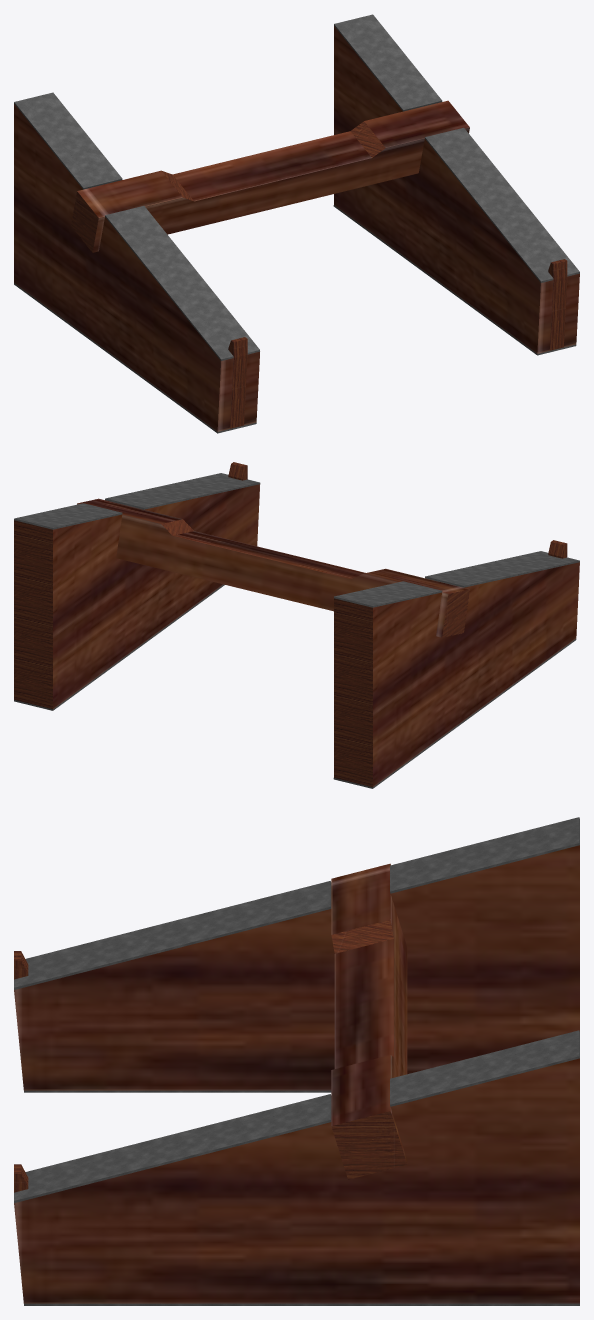
File: base-baja-de-laptop-saman.glb
3 renders of one model, top to bottom at view 1: azimuth 30°, elevation 25°; view 2: azimuth 150°, elevation 25°; view 3: azimuth 270°, elevation 25°, orthographic. The views are drawn at different scales.
Size of the model in its own units: 0.238 by 0.112 by 0.23.
3 materials, 3 textured.
